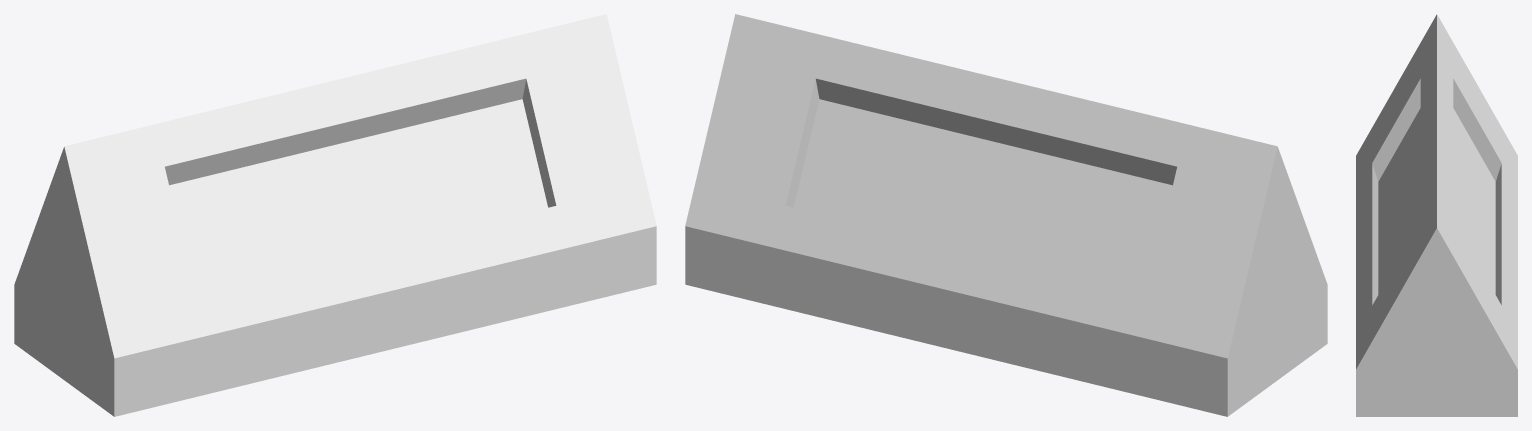
File: door.glb
3 views of the same model, side by side, from view 1: azimuth 30°, elevation 25°; view 2: azimuth 150°, elevation 25°; view 3: azimuth 270°, elevation 25° (orthographic). The views are drawn at different scales.
Parts seen in each view (by area): view 1: mergedBlocks(Clone); view 2: mergedBlocks(Clone); view 3: mergedBlocks(Clone).
Part boxes in pixels (x1,y1,x2,y2): mergedBlocks(Clone): [14, 14, 656, 416]; mergedBlocks(Clone): [685, 14, 1327, 416]; mergedBlocks(Clone): [1356, 14, 1517, 416].
Bounding box in the file's own units: 3 × 1.24 × 0.96.
Materials: 1 (1 with a texture image).
